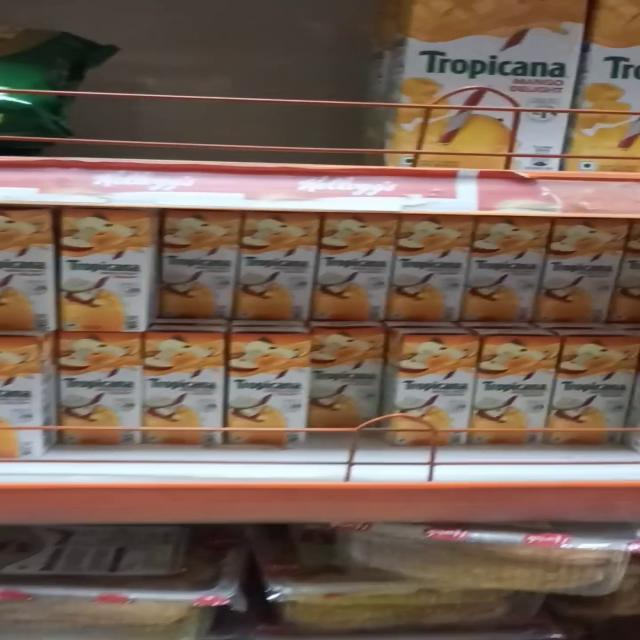Tropicana: (61, 200, 155, 338), (134, 331, 230, 454), (221, 330, 310, 456), (391, 329, 478, 452), (49, 331, 132, 454), (302, 333, 389, 450), (555, 336, 640, 452), (239, 204, 316, 331), (316, 205, 394, 328), (158, 210, 234, 331), (476, 331, 550, 452), (397, 211, 467, 328), (474, 208, 542, 326), (550, 215, 621, 328)
